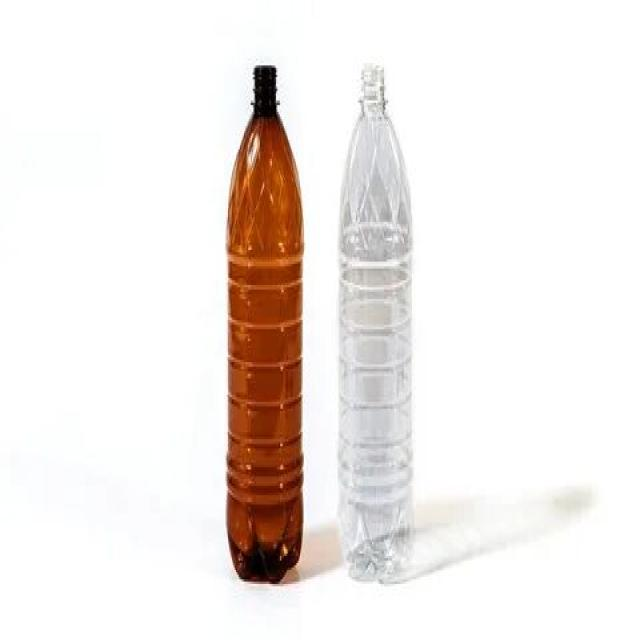brown: (225, 67, 304, 584)
